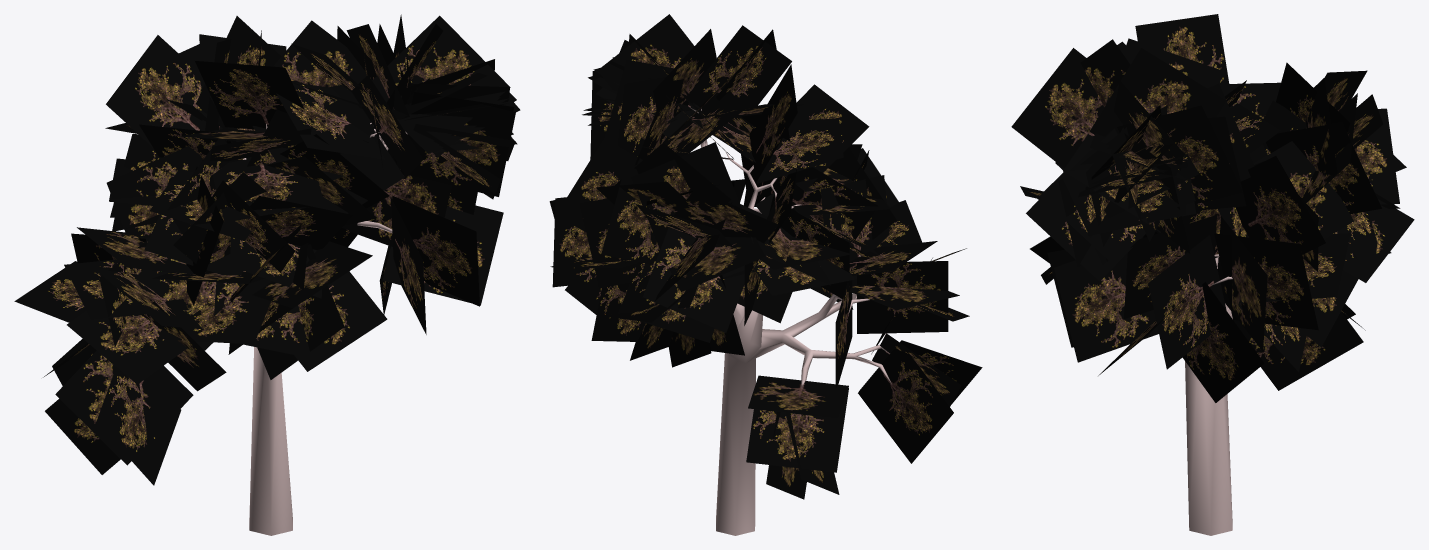
The model's file is tree.glb.
3 renders of one model, left to right at view 1: azimuth 30°, elevation 25°; view 2: azimuth 150°, elevation 25°; view 3: azimuth 270°, elevation 25°, orthographic. The views are drawn at different scales.
Bounding box in the file's own units: 5.27 × 5.93 × 4.27.
Materials: 2 (1 with a texture image).
